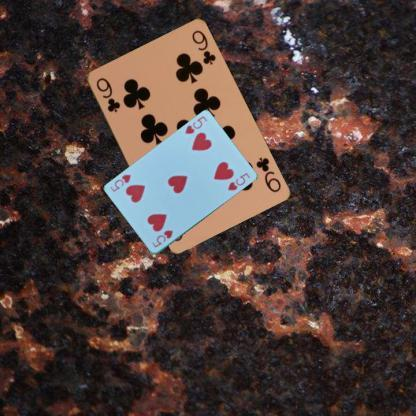5h: (149, 228, 175, 250), (182, 114, 208, 136)
9c: (252, 154, 282, 194), (92, 74, 121, 114)
